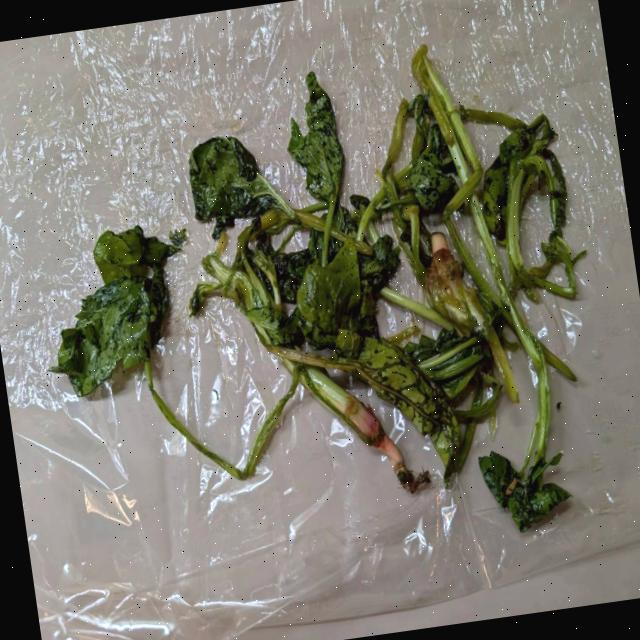rotten spinach: (16, 26, 598, 594), (84, 34, 616, 583), (26, 124, 427, 558), (58, 234, 436, 560), (274, 42, 474, 446), (372, 24, 598, 374), (358, 286, 606, 564), (55, 210, 237, 424), (178, 123, 362, 285)
